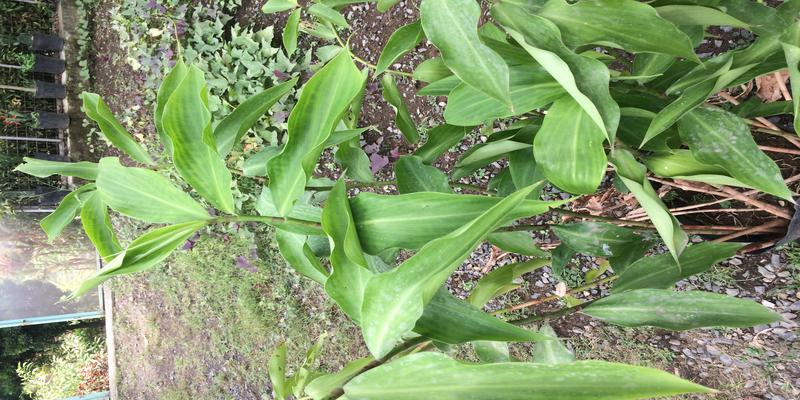Insulin: (404, 18, 791, 297)
